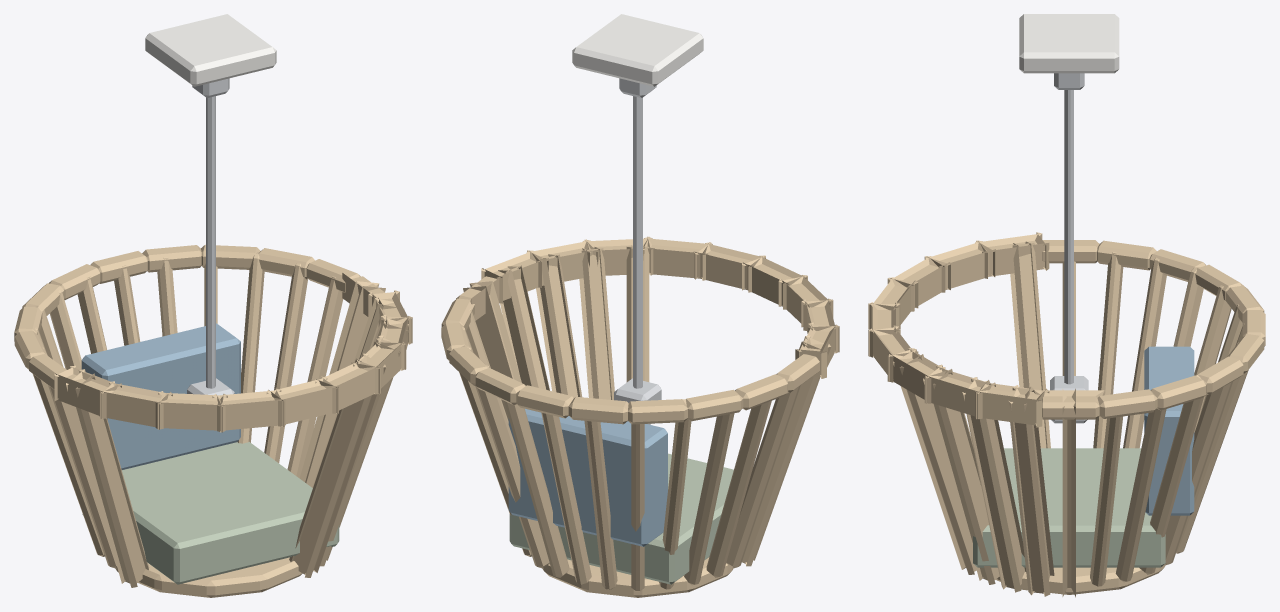
File: HangingEggChair.glb
The picture shows the model from 3 angles, left to right: view 1: azimuth 30°, elevation 25°; view 2: azimuth 150°, elevation 25°; view 3: azimuth 270°, elevation 25°; orthographic projection.
Visible parts, largest first — view 1: HangingEggChair_Pod, HangingEggChair_Mount; view 2: HangingEggChair_Pod, HangingEggChair_Mount; view 3: HangingEggChair_Pod, HangingEggChair_Mount.
Boxes of the visible parts, x1,y1,x2,y2 form: HangingEggChair_Pod: [14, 244, 412, 597]; HangingEggChair_Mount: [145, 14, 276, 388]; HangingEggChair_Pod: [441, 236, 839, 597]; HangingEggChair_Mount: [572, 14, 703, 388]; HangingEggChair_Pod: [868, 232, 1265, 597]; HangingEggChair_Mount: [1019, 14, 1119, 384].
Bounding box in the file's own units: 1.04 × 1.49 × 1.03.
